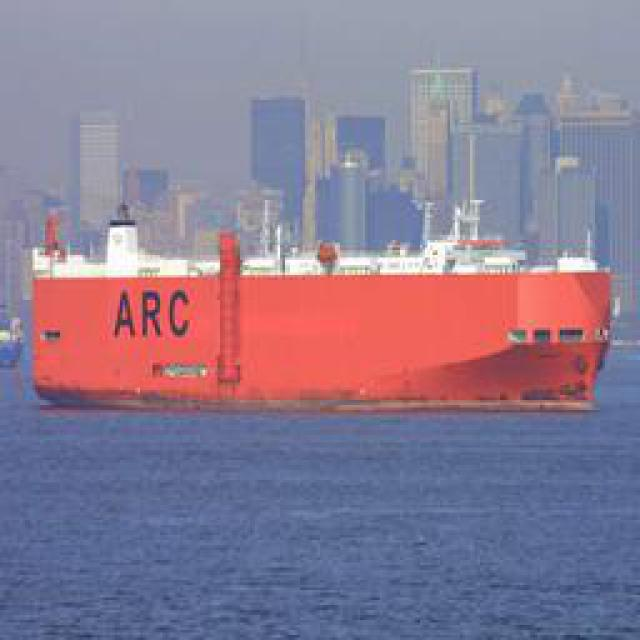Ship: (29, 225, 609, 410)
